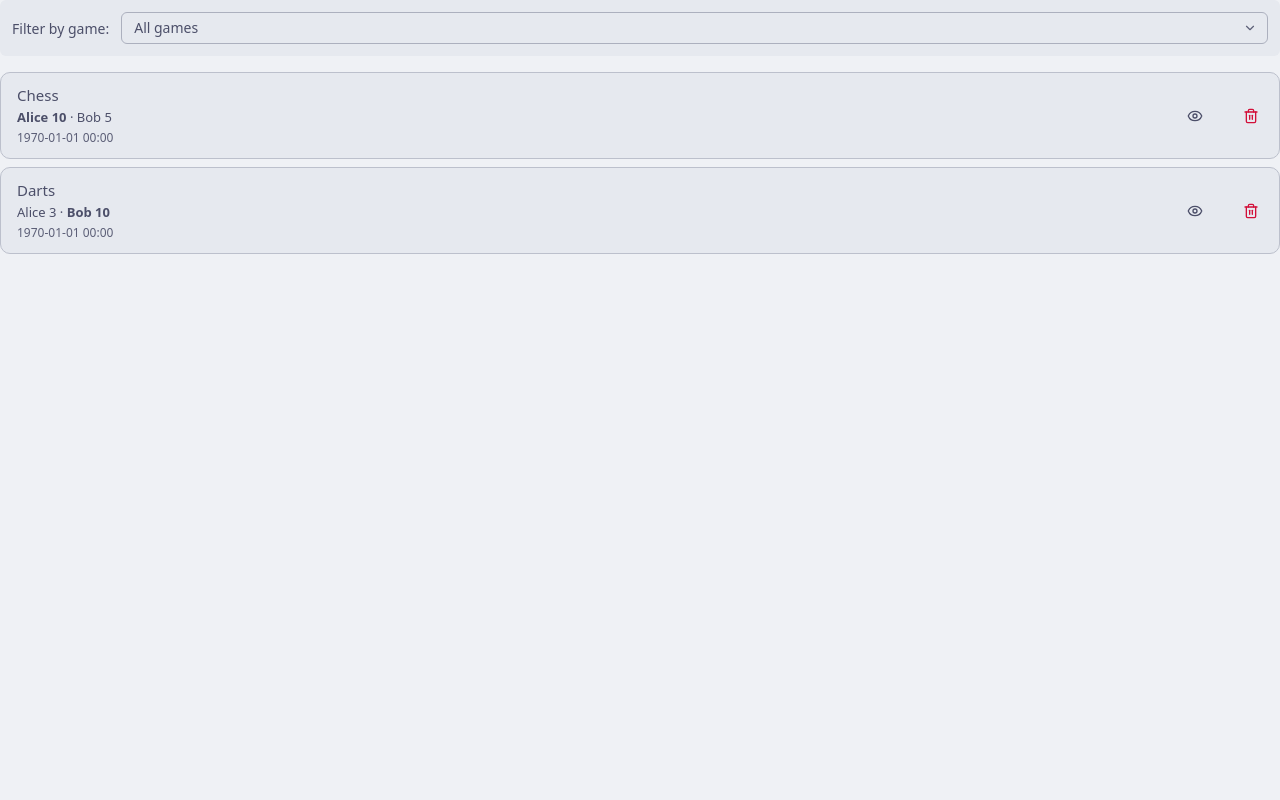
it: HistoryScreen › view flow: shows every stored round of the match, then its totals
The width and height of the screenshot is (1280, 800).
Click the button named "View details" in the row of "Bob 5" at (1195, 116), box [1167,73,1223,158]
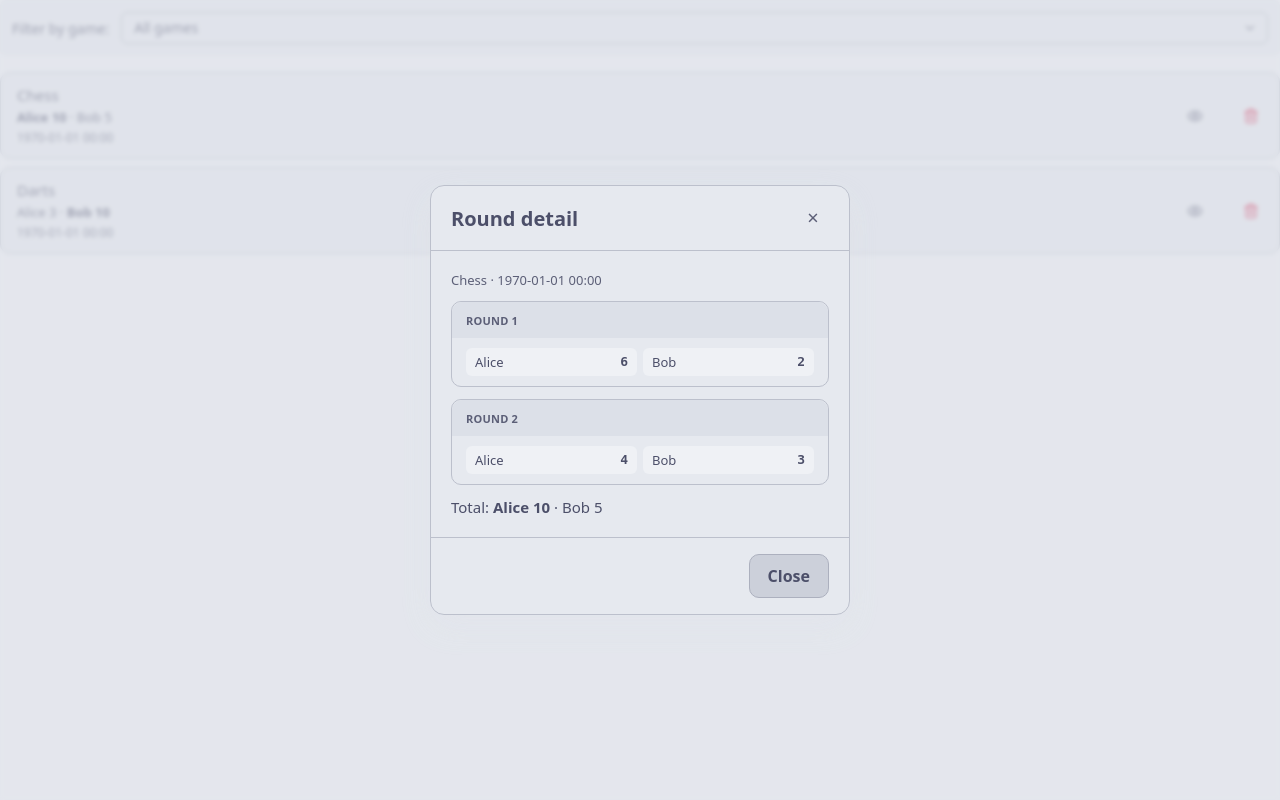
Expected: the heading "Round detail" is shown, [451,204,578,232]
Expected: the element showing "Round 1 Alice 6 Bob 2" is shown, [451,301,829,387]
Expected: the element showing "Round 2 Alice 4 Bob 3" is shown, [451,399,829,485]
